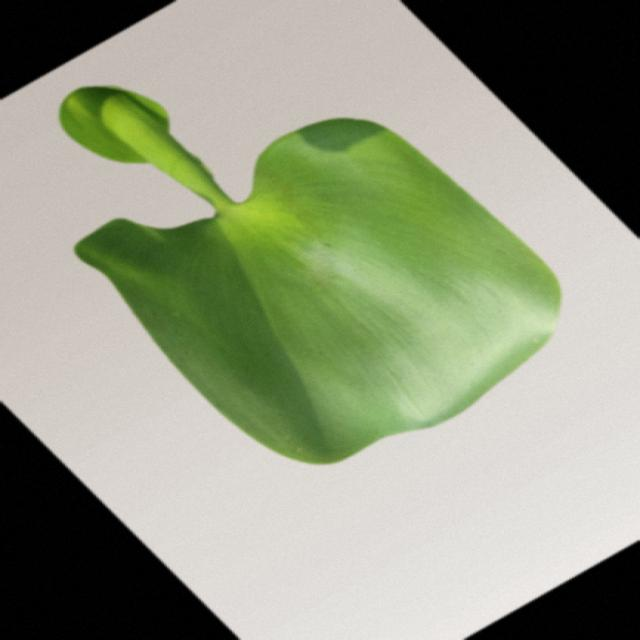daun sehat: (60, 87, 560, 464)
